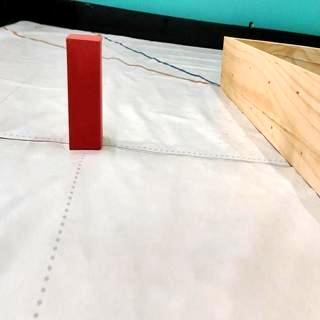redbox: (66, 32, 102, 152)
